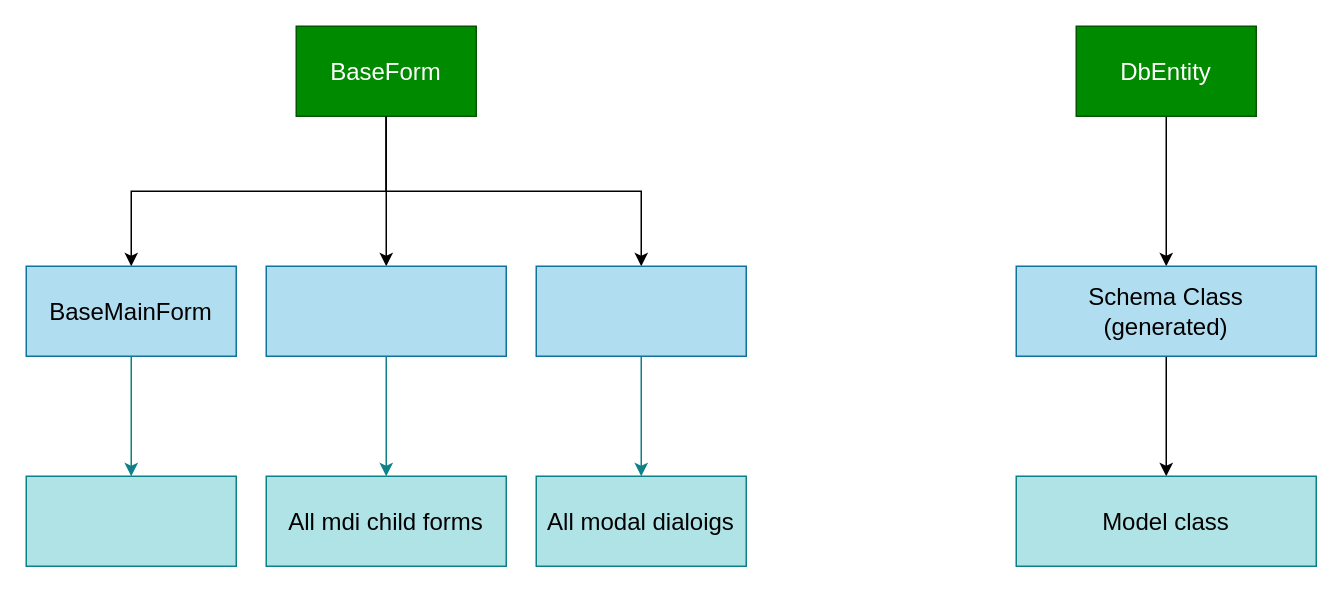
The diagram is 1343 pixels wide and 593 high, and some of its shapes have lost their labels. Here are the shapes that lost their labels. From the top down, the box of each, then its label:
(265, 265, 506, 356): BaseMdiChildForm
(535, 265, 746, 356): BaseDialog
(25, 475, 236, 566): mdi parent form
